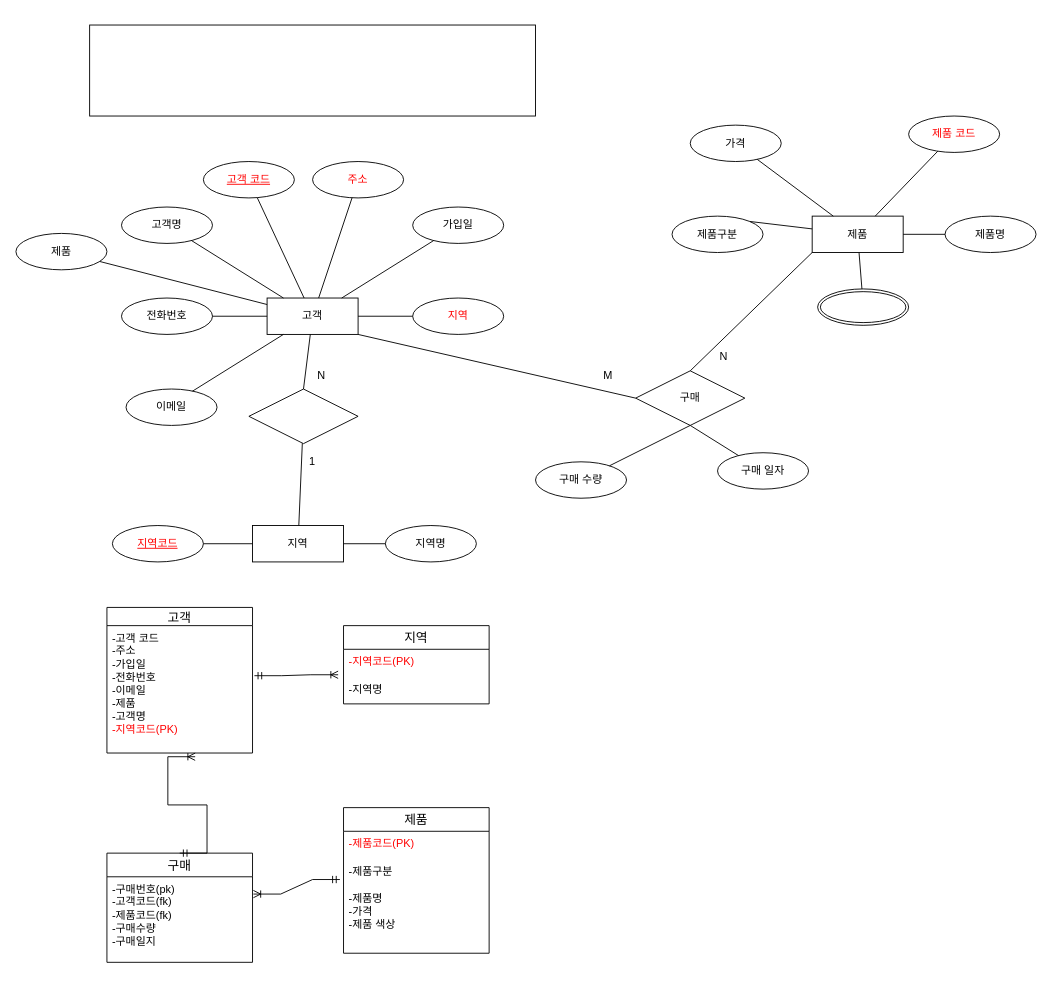
This 1052x981 diagram has some shape labels left out. The box of each missing label's shape, as (x1, y1, x2, y2) in pixels:
Logical Data Modeling(RM): (89, 24, 536, 116)
관리: (248, 388, 358, 444)
제품 색상: (817, 288, 909, 325)
